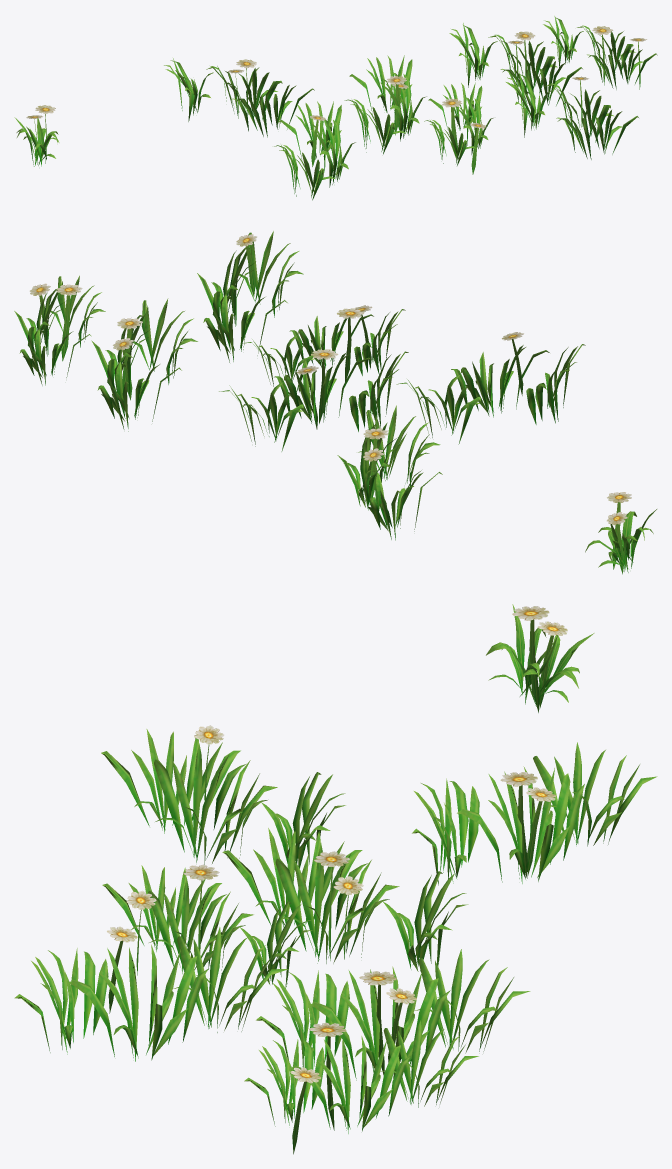
Rendered from huahua_09.fbx.
3 views of the same model, one above another, from view 1: azimuth 30°, elevation 25°; view 2: azimuth 150°, elevation 25°; view 3: azimuth 270°, elevation 25° (orthographic). The views are drawn at different scales.
Visible parts, largest first — view 1: polySurface8344; view 2: polySurface8344; view 3: polySurface8344.
Boxes of the visible parts, left/top/right/bottom form: polySurface8344: left=14, top=16, right=657, bottom=200; polySurface8344: left=14, top=231, right=656, bottom=574; polySurface8344: left=14, top=604, right=657, bottom=1154.
Bounding box in the file's own units: 1195 × 157 × 692.
